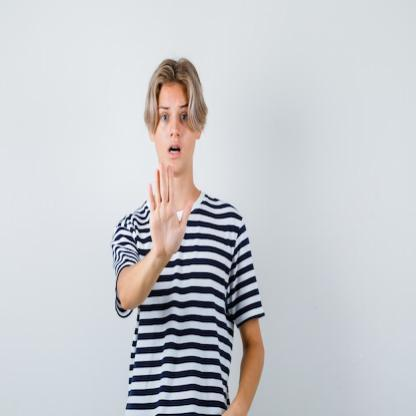stop: (144, 157, 196, 262)
